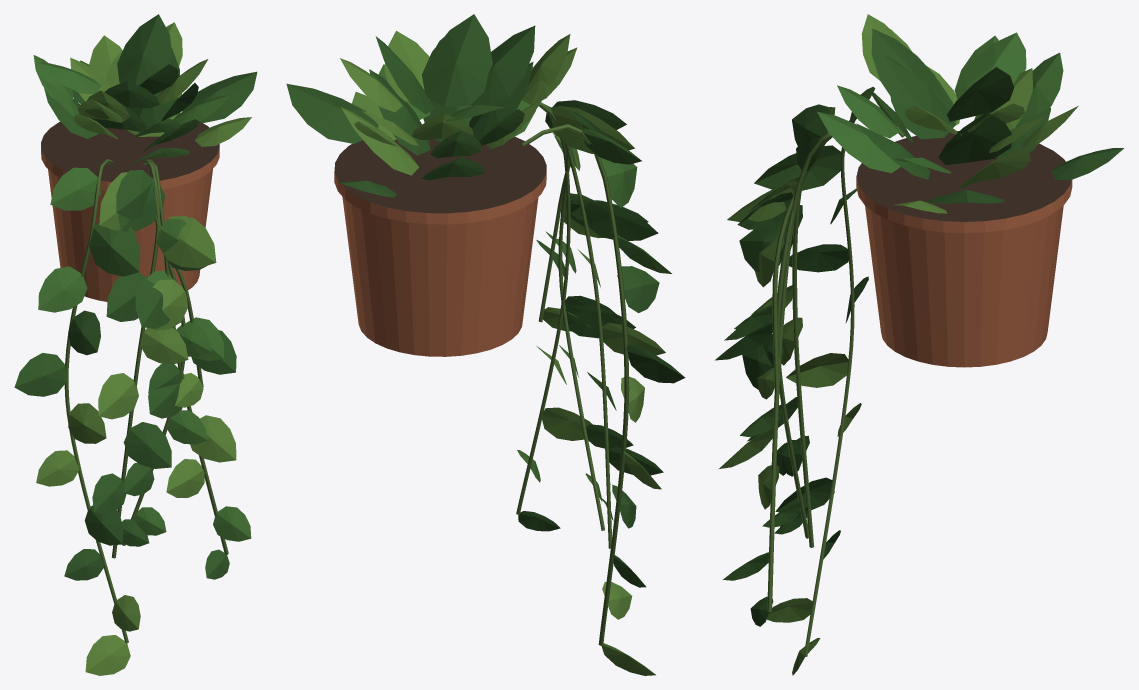
The picture shows the model from 3 angles, left to right: view 1: azimuth 30°, elevation 25°; view 2: azimuth 150°, elevation 25°; view 3: azimuth 270°, elevation 25°; orthographic projection. The views are drawn at different scales.
Parts seen in each view (by area): view 1: leaves, pot, vine_m.002, vine_m.004, vine_m.001, vine_m, vine_m.003; view 2: leaves, pot, vine_m.002, vine_m.004, vine_m, vine_m.001, vine_m.003; view 3: leaves, pot, vine_m.002, vine_m.001, vine_m.004, vine_m, vine_m.003.
Part boxes in pixels (x1,y1,x2,y2): leaves: (14, 14, 257, 675); pot: (41, 121, 219, 301); vine_m.002: (64, 159, 128, 643); vine_m.004: (111, 159, 159, 558); vine_m.001: (147, 159, 228, 554); vine_m: (121, 159, 185, 545); vine_m.003: (148, 160, 203, 387); leaves: (286, 14, 685, 675); pot: (334, 137, 546, 356); vine_m.002: (522, 124, 629, 645); vine_m.004: (538, 102, 611, 548); vine_m: (547, 106, 604, 530); vine_m.001: (516, 138, 570, 514); vine_m.003: (538, 105, 570, 322); leaves: (715, 14, 1123, 675); pot: (856, 131, 1072, 367); vine_m.002: (803, 115, 904, 656); vine_m.001: (767, 133, 831, 611); vine_m.004: (792, 133, 828, 547); vine_m: (777, 171, 809, 538); vine_m.003: (772, 137, 832, 394).
Size of the model in its own units: 0.2576 by 0.4814 by 0.2624.
